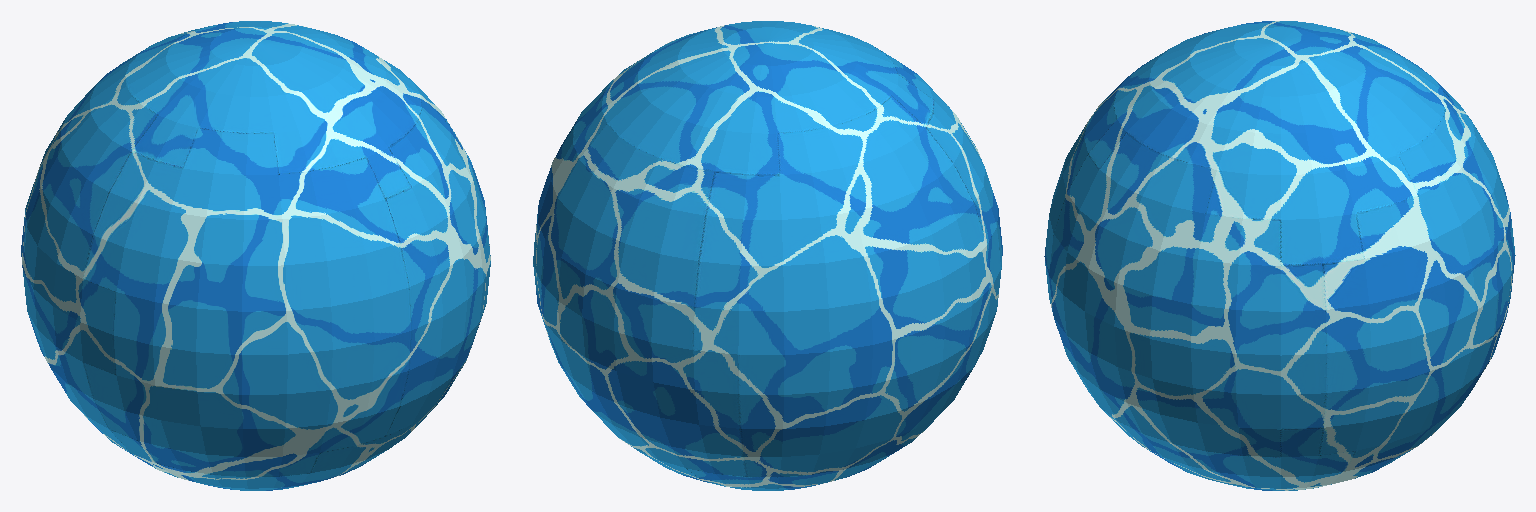
The picture shows the model from 3 angles: view 1: azimuth 30°, elevation 25°; view 2: azimuth 150°, elevation 25°; view 3: azimuth 270°, elevation 25°; orthographic projection.
Visible parts, largest first — view 1: Sphere; view 2: Sphere; view 3: Sphere.
Part boxes in pixels (bbox=[...]): Sphere: bbox=[21, 21, 490, 490]; Sphere: bbox=[533, 21, 1002, 490]; Sphere: bbox=[1044, 21, 1515, 490].
Size of the model in its own units: 1.09 by 1.09 by 1.09.
Materials: 1 (1 with a texture image).